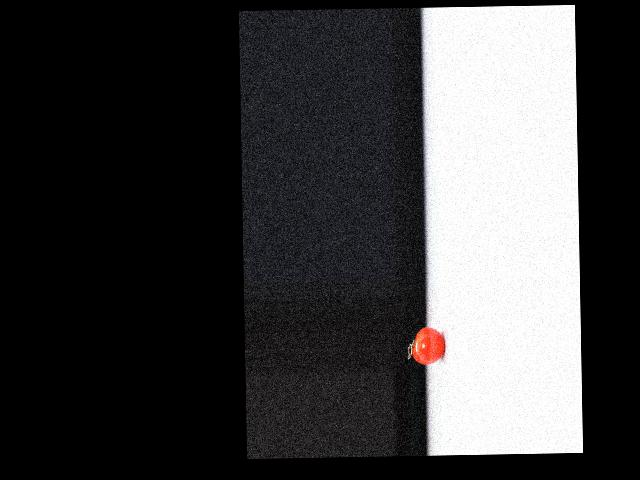tomato: (411, 326, 445, 364)
